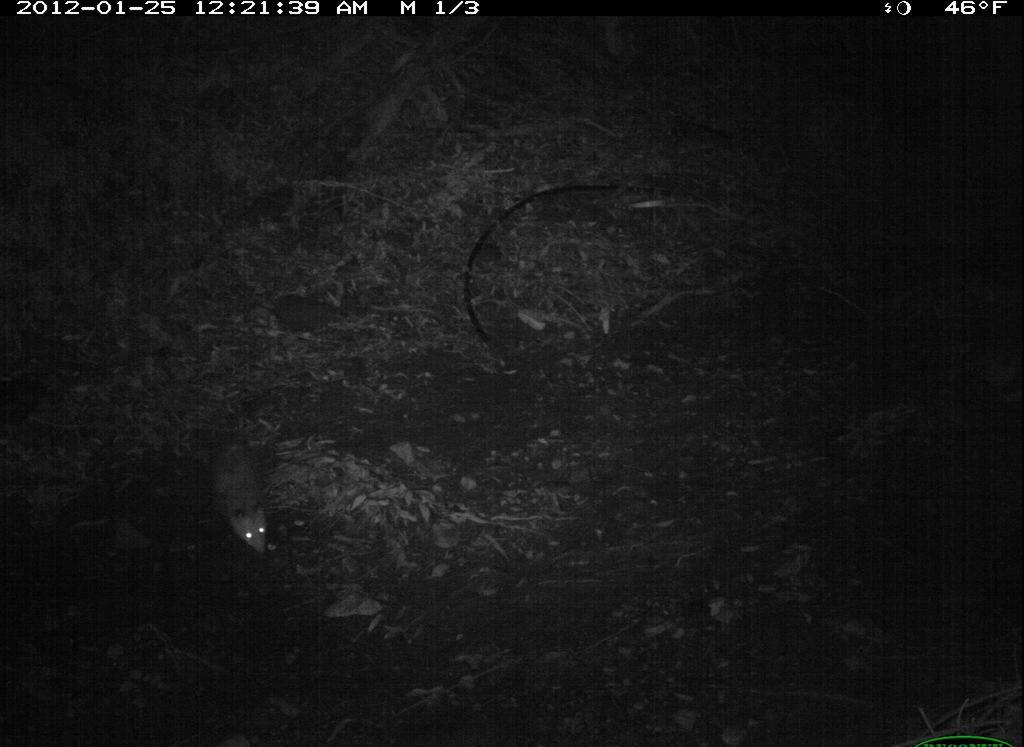opossum: (173, 402, 295, 601)
